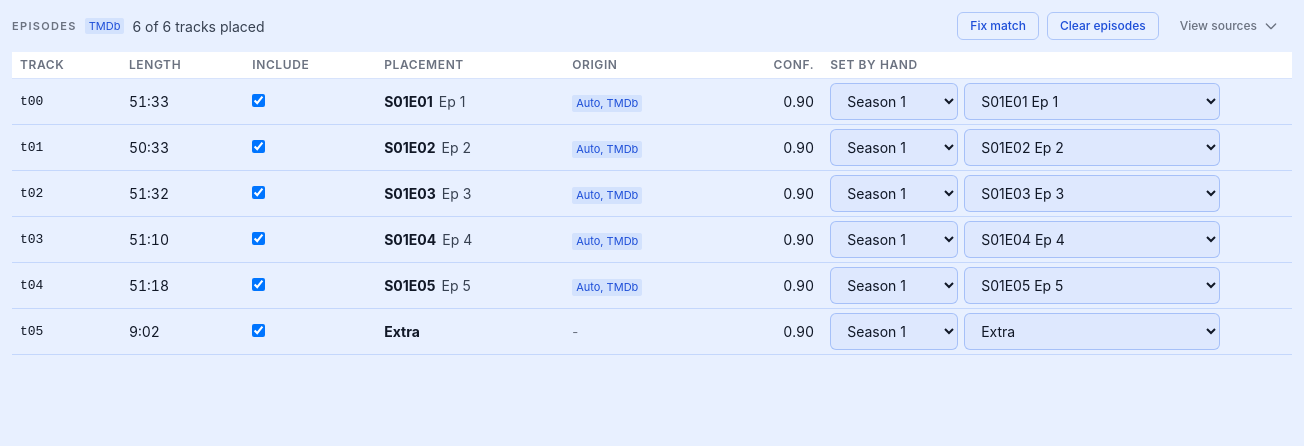
it: EpisodeMatchPanel actions › Clear episodes forgets the match and shows no match with Fix match at hand
Click the button "Clear episodes" at [1103, 26], box [1047,12,1159,40]
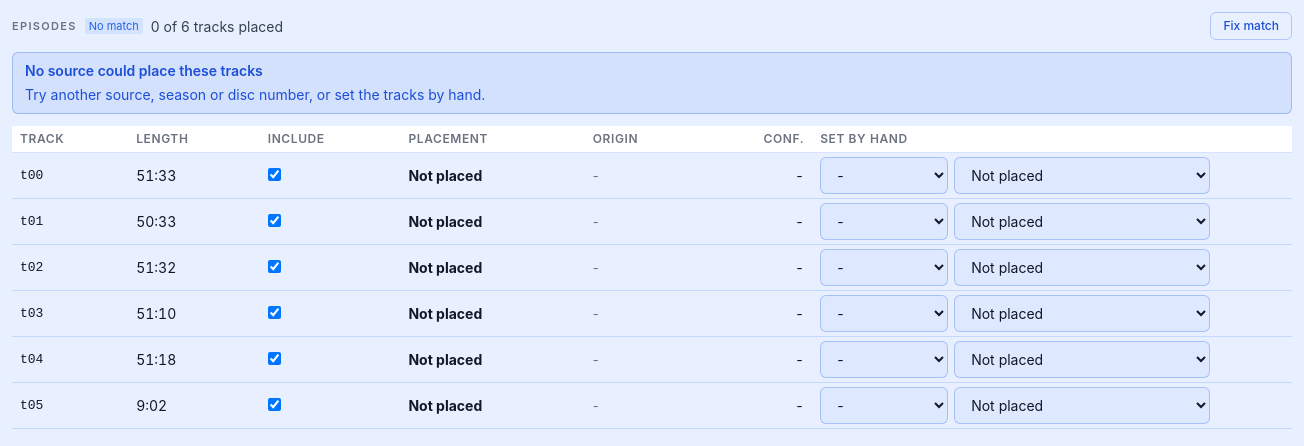
Check: the text "No match" is shown, box [85,18,143,34]
Check: the text "0 of 6 tracks placed" is shown, box [151,16,283,36]
Check: the button "Clear episodes" is gone
